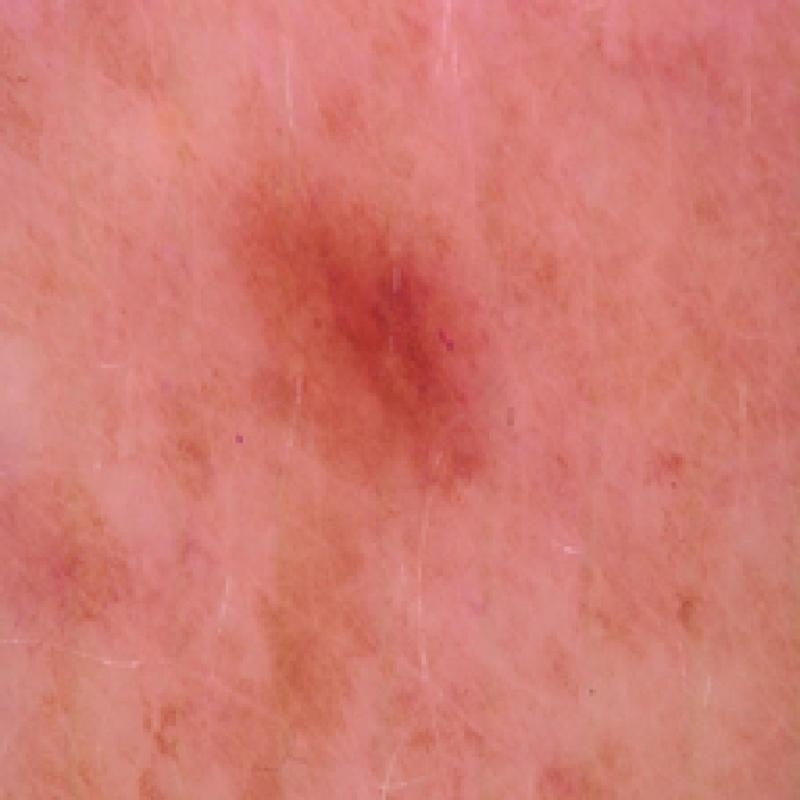benign: (229, 166, 550, 496)
